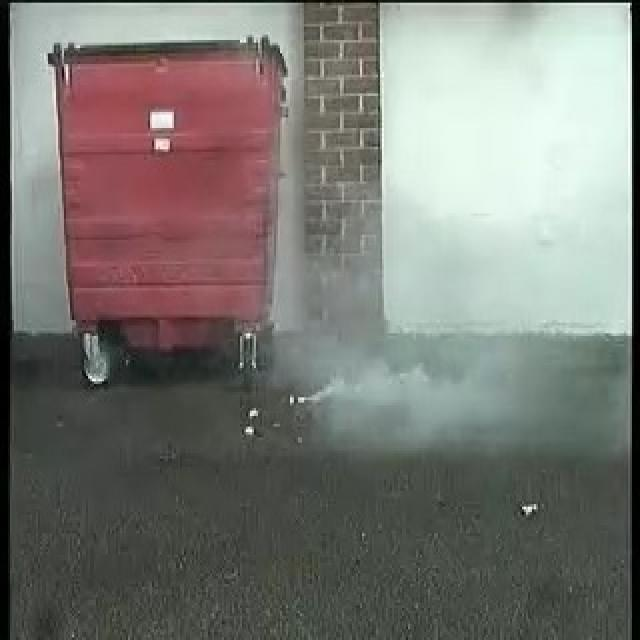smoke: (271, 242, 418, 430)
